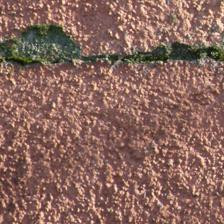Crack: (5, 30, 222, 74)
